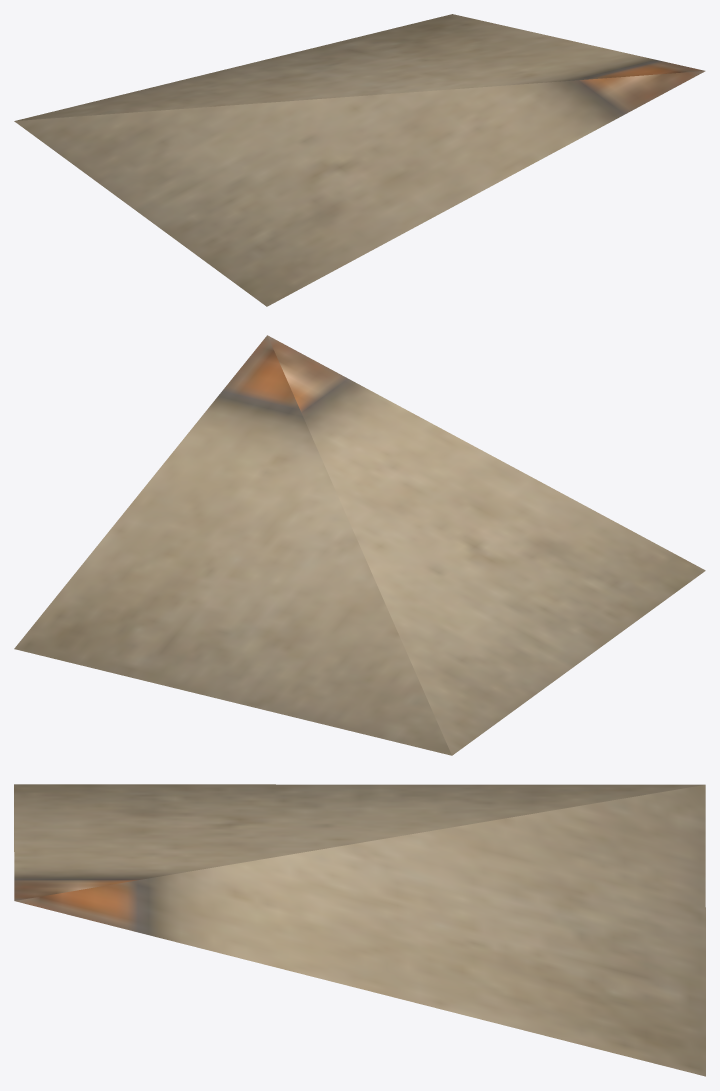
The model's file is sink_innercorner.glb.
The picture shows the model from 3 angles, top to bottom: view 1: azimuth 30°, elevation 25°; view 2: azimuth 150°, elevation 25°; view 3: azimuth 270°, elevation 25°; orthographic projection. The views are drawn at different scales.
Visible parts, largest first — view 1: SmallSunkenTurnIn_90; view 2: SmallSunkenTurnIn_90; view 3: SmallSunkenTurnIn_90.
Boxes of the visible parts, <box> form: SmallSunkenTurnIn_90: <box>14,14,705,306</box>; SmallSunkenTurnIn_90: <box>14,335,705,755</box>; SmallSunkenTurnIn_90: <box>14,784,705,1076</box>.
Size of the model in its own units: 2.5 by 0.7 by 2.5.
Materials: 1 (1 with a texture image).
